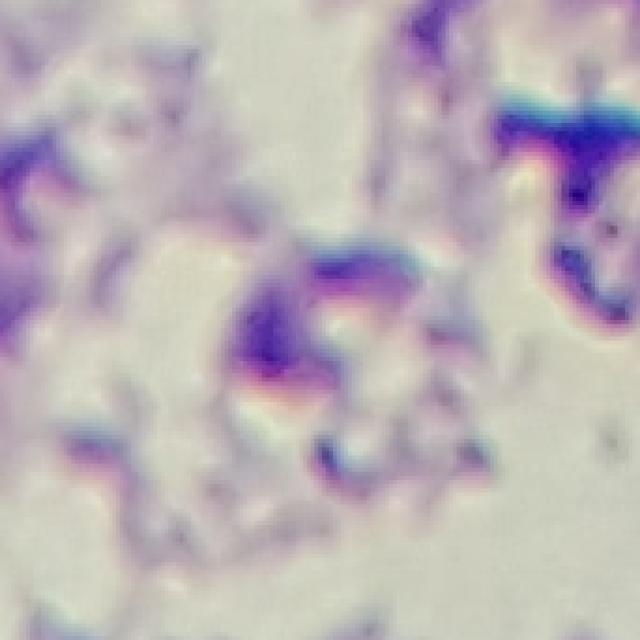non-sperm: (228, 236, 496, 503)
